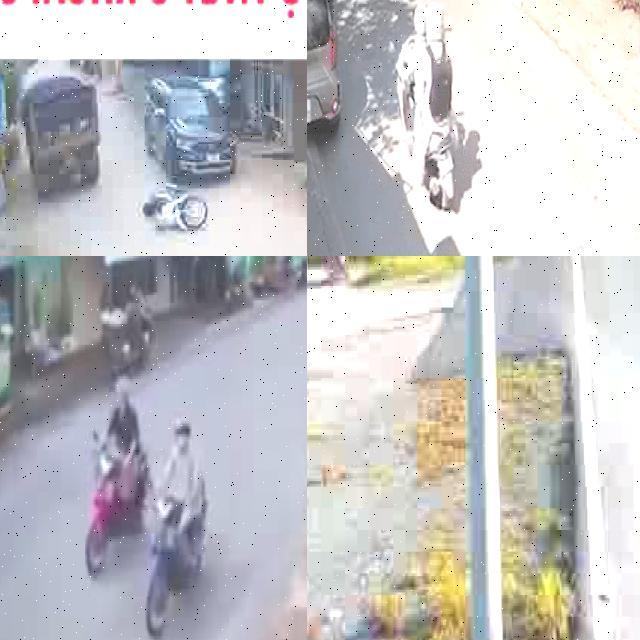multiple_accident: (134, 72, 247, 238)
